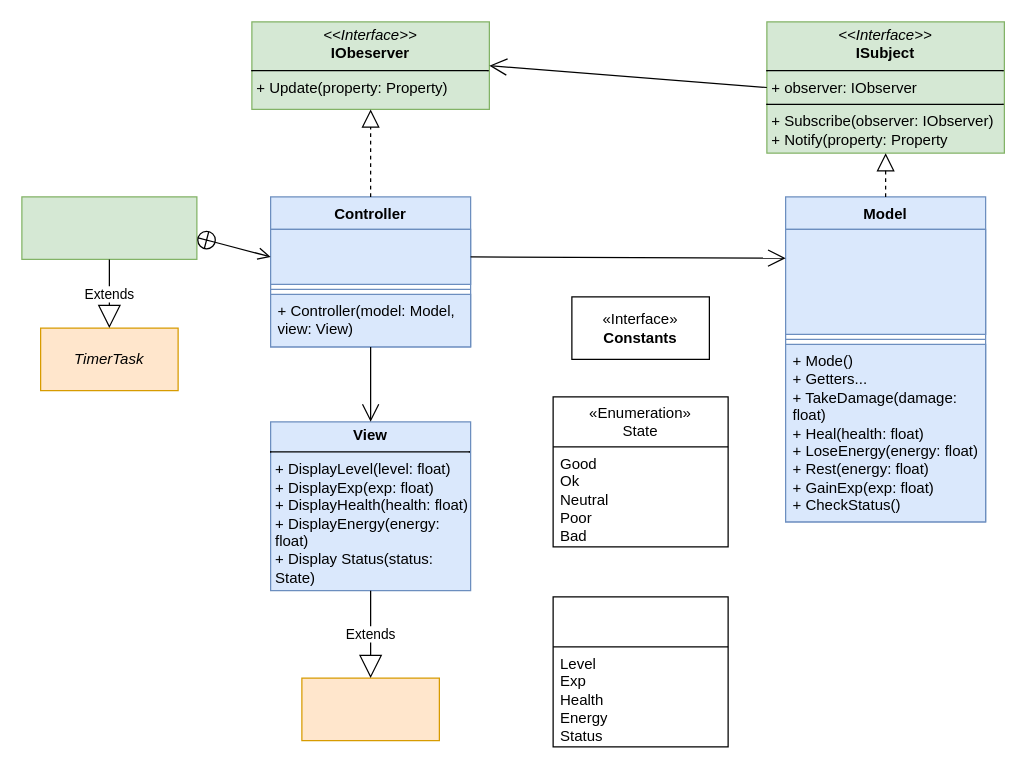
Some shapes in this 1026 by 773 pixel diagram are drawn without their labels. Here are the shapes that lost their labels. From the top down, the box of each, then its label:
(21, 196, 197, 259): EnergyLoss + run()
(269, 228, 471, 284): - model: Model - view: View
(784, 228, 986, 334): - health: float - energy: float - exp: float - level: int - state: State
(552, 596, 728, 747): «Enumeration » Property
(301, 677, 439, 741): JFrame
